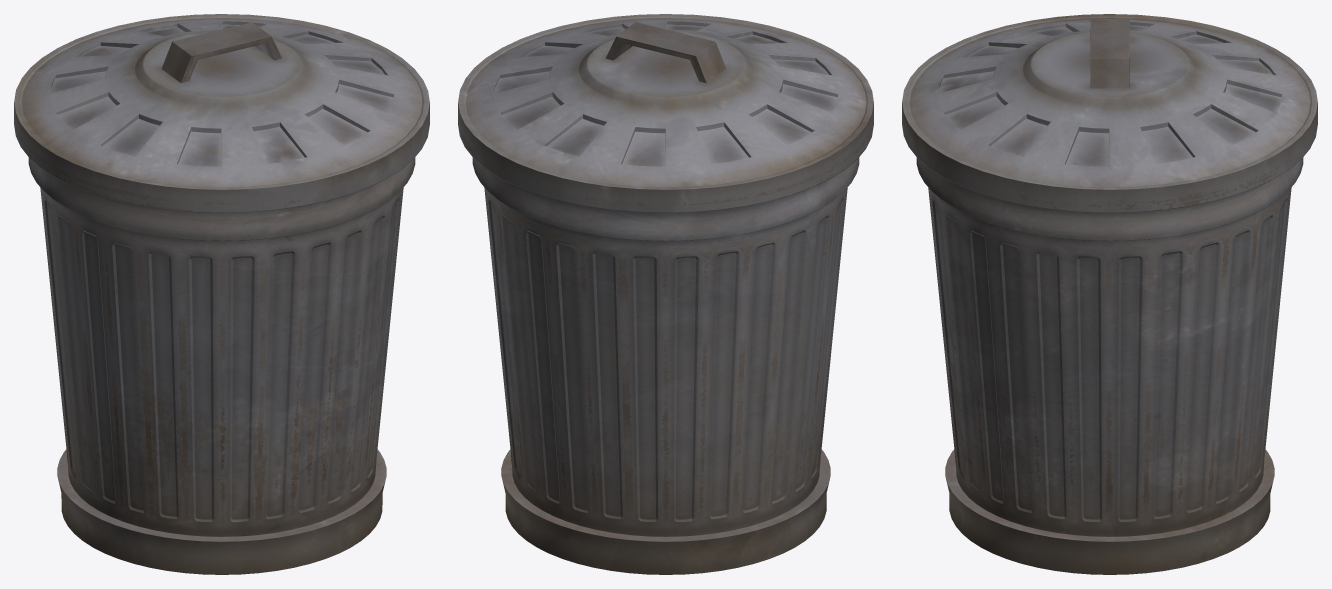
The model's file is trash_can.glb.
3 renders of one model, left to right at view 1: azimuth 30°, elevation 25°; view 2: azimuth 150°, elevation 25°; view 3: azimuth 270°, elevation 25°, orthographic.
Parts seen in each view (by area): view 1: Object_3, Object_2; view 2: Object_3, Object_2; view 3: Object_3, Object_2.
Boxes of the visible parts, <box> form: Object_3: <box>28,157,415,574</box>; Object_2: <box>14,14,429,212</box>; Object_3: <box>472,157,859,574</box>; Object_2: <box>458,14,873,212</box>; Object_3: <box>916,157,1303,574</box>; Object_2: <box>902,14,1317,212</box>.
Size of the model in its own units: 7.74 by 9.62 by 7.74.
1 material, 1 textured.
